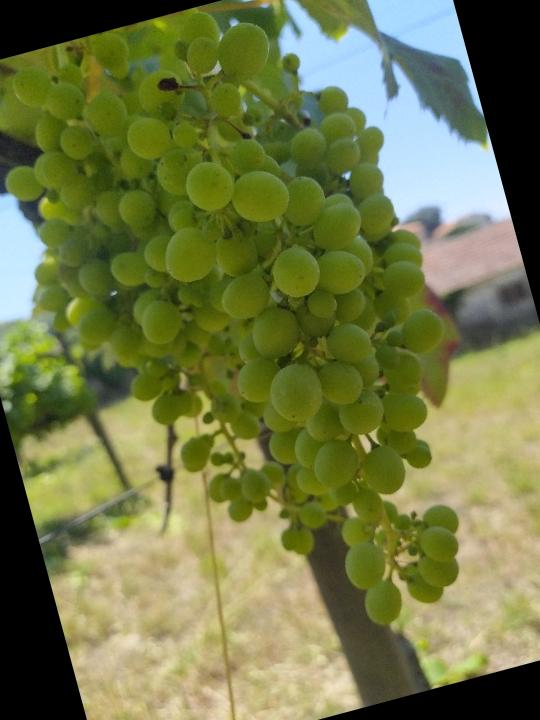grape: (0, 0, 519, 692)
